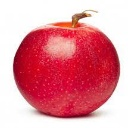apple: (13, 21, 122, 118)
